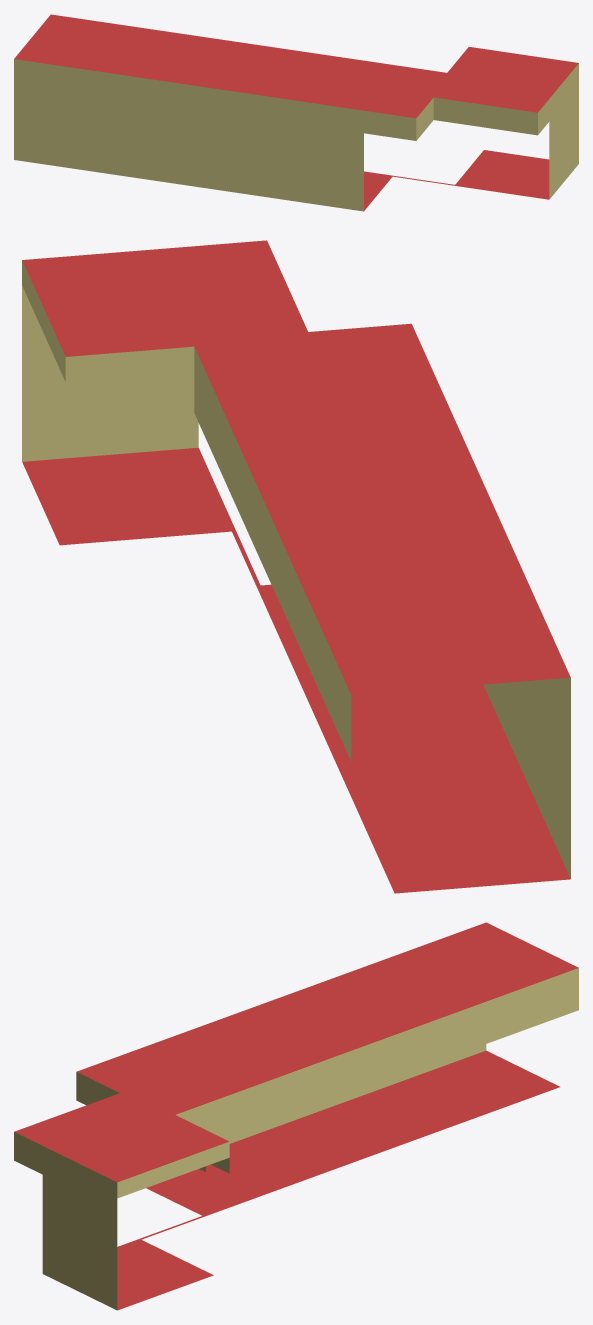
3 views of the same model, one above another, from view 1: azimuth 30°, elevation 25°; view 2: azimuth 150°, elevation 25°; view 3: azimuth 270°, elevation 25° (orthographic). The views are drawn at different scales.
Size of the model in its own units: 54.59 by 50.13 by 12.54.
